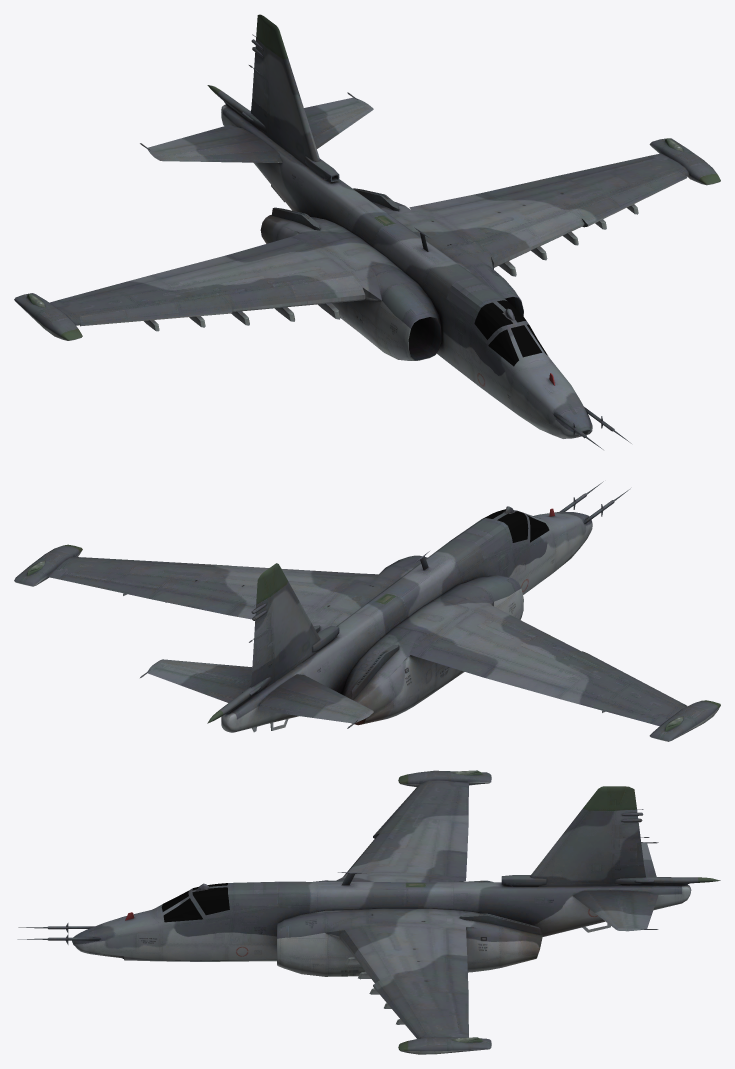
The picture shows the model from 3 angles, top to bottom: view 1: azimuth 30°, elevation 25°; view 2: azimuth 150°, elevation 25°; view 3: azimuth 270°, elevation 25°; orthographic projection. The views are drawn at different scales.
Parts seen in each view (by area): view 1: LOD0, VoletR01, VoletL01, Canopy01, BrakeR02, BrakeL02, Glass01, Glass_Canopy01, ElevatorR01, RudderL01; view 2: LOD0, BrakeR02, Canopy01, ElevatorR01, BrakeL02, VoletR01, ElevatorL01, FlapR01, FlapL01, FlapR02, RudderL01, AileronR01 (+5 smaller); view 3: LOD0, VoletL01, Canopy01, BrakeL02, BrakeR02, RudderL01, VoletR01, Glass_Canopy01, ElevatorL01, Glass01, FlapL01, FlapL02 (+4 smaller).
Part boxes in pixels (x1,y1,x2,y2): LOD0: (14, 14, 720, 449); VoletR01: (80, 275, 365, 326); VoletL01: (480, 170, 687, 267); Canopy01: (446, 277, 527, 343); BrakeR02: (160, 242, 320, 284); BrakeL02: (431, 180, 575, 221); Glass01: (488, 324, 547, 366); Glass_Canopy01: (474, 300, 526, 339); ElevatorR01: (147, 125, 249, 151); RudderL01: (252, 53, 268, 112); LOD0: (14, 481, 720, 741); BrakeR02: (431, 631, 575, 688); Canopy01: (452, 506, 529, 559); ElevatorR01: (258, 694, 359, 723); BrakeL02: (160, 581, 320, 613); VoletR01: (480, 605, 686, 705); ElevatorL01: (147, 667, 246, 702); FlapR01: (482, 665, 567, 698); FlapL01: (150, 589, 239, 614); FlapR02: (420, 647, 493, 676); RudderL01: (252, 612, 273, 672); AileronR01: (559, 689, 654, 723); LOD0: (17, 770, 720, 1054); VoletL01: (339, 926, 426, 1038); Canopy01: (190, 881, 278, 918); BrakeL02: (416, 926, 451, 991); BrakeR02: (417, 820, 451, 875); RudderL01: (611, 823, 643, 865); VoletR01: (343, 784, 426, 876); Glass_Canopy01: (192, 883, 229, 915); ElevatorL01: (628, 891, 658, 928); Glass01: (161, 890, 202, 922); FlapL01: (447, 957, 468, 994); FlapL02: (446, 928, 467, 960).
Bounding box in the file's own units: 15.23 × 4.4 × 16.44.
Materials: 4 (3 with a texture image).
